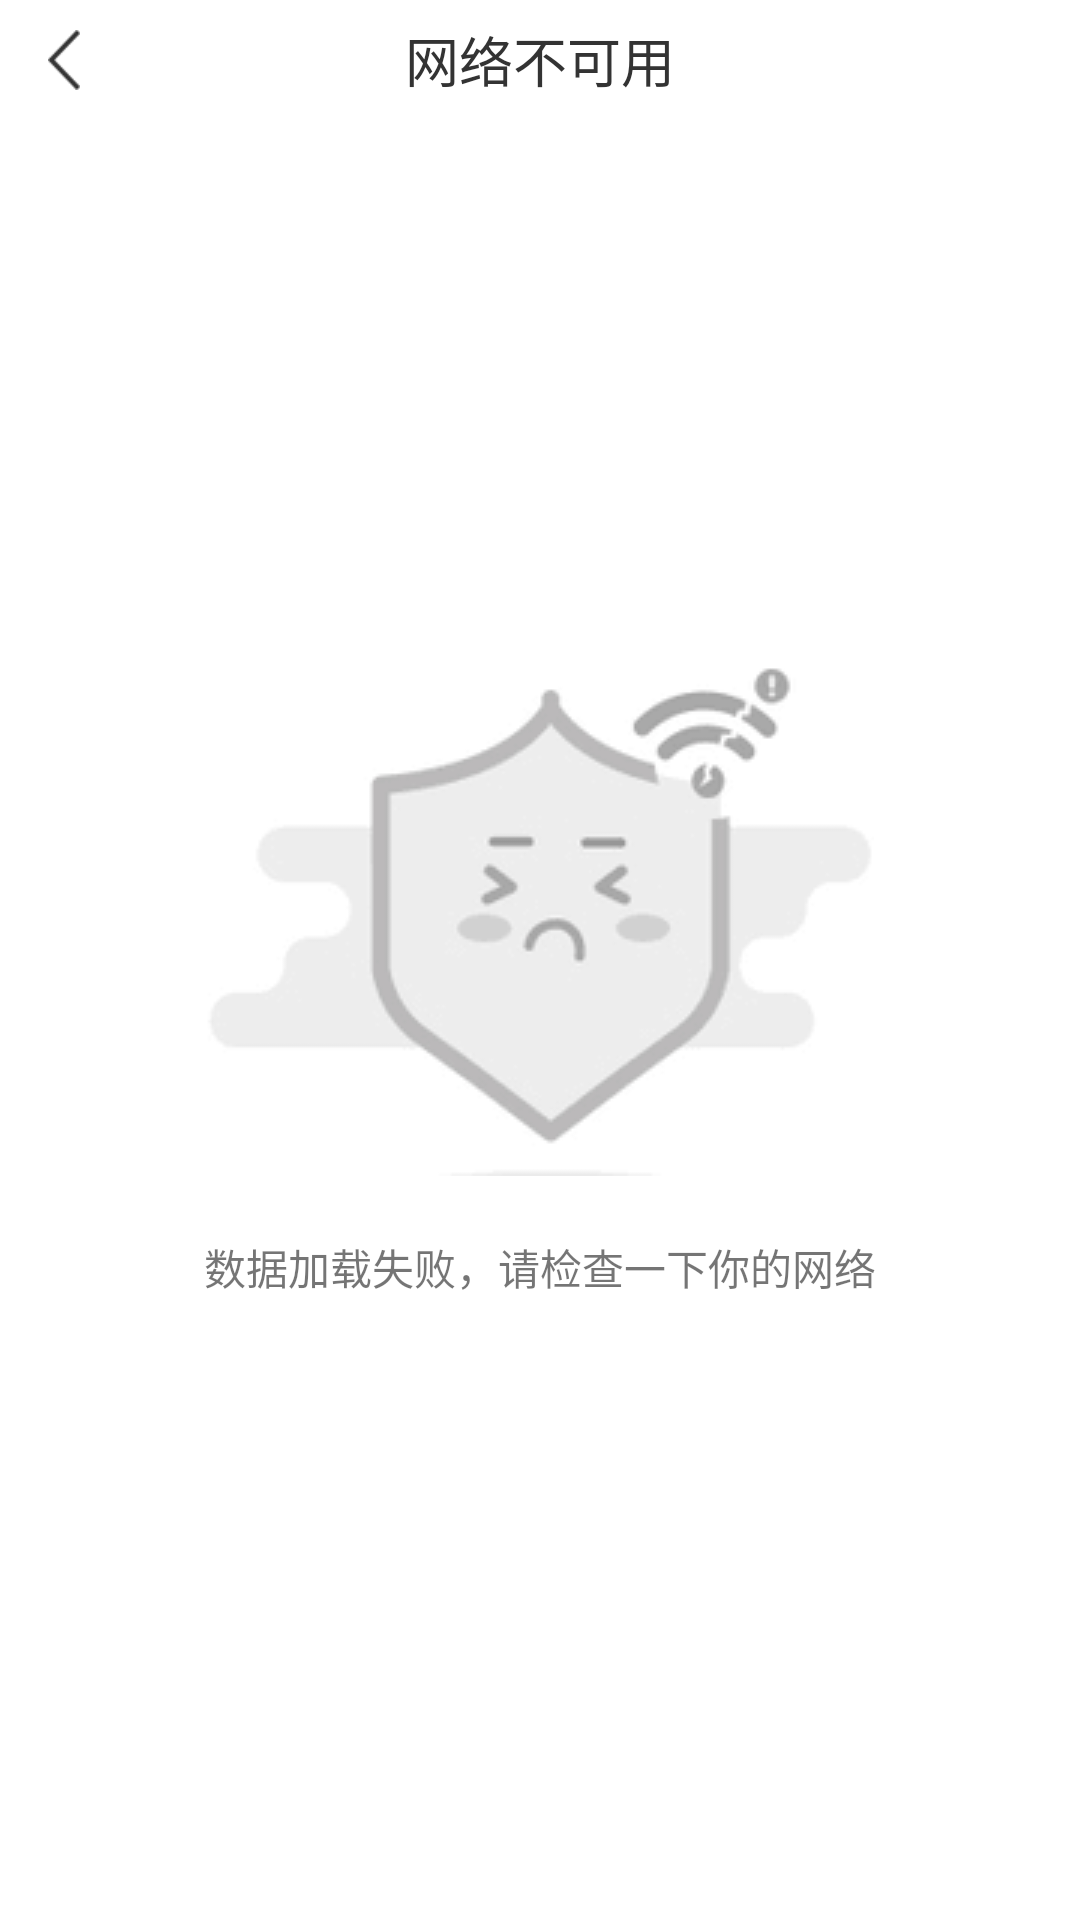

Point at icon controls on the screen. Image size 1080x1920, points as point (x, y).
mybtn return: point (64, 60)
